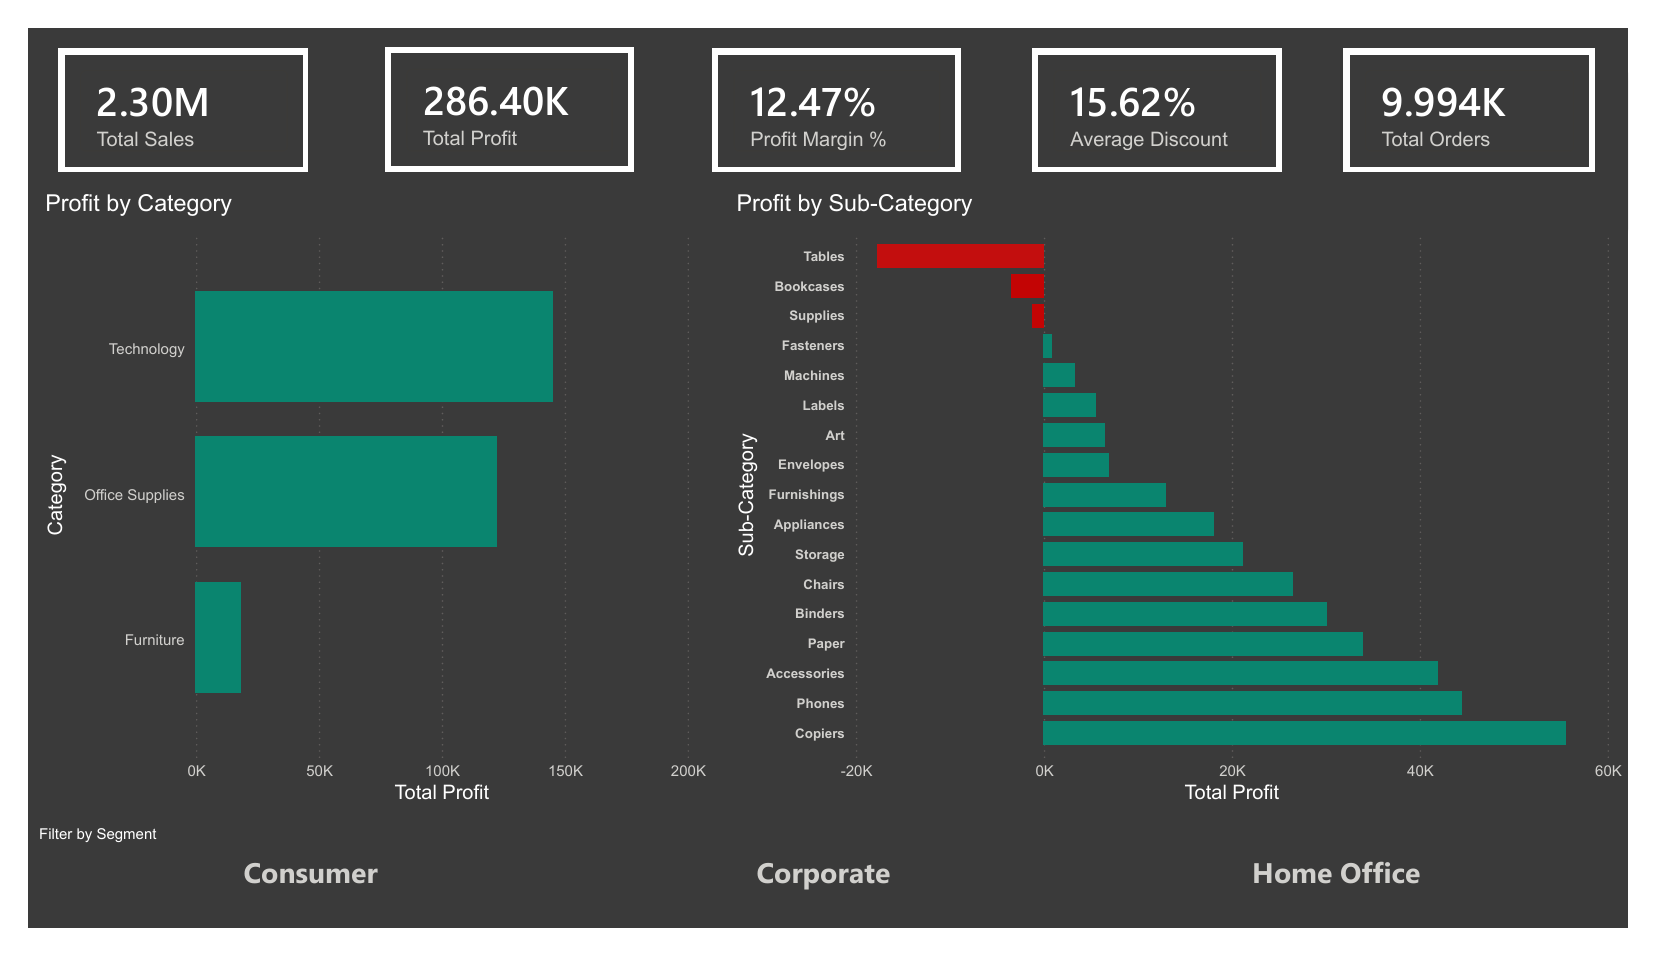

Layout of this report page (visuals, bound fields, positions):
{"tool":"powerbi","page":{"name":" Executive Summary","canvas":[1280,720],"ordinal":0},"visuals":[{"type":"cardVisual","fields":{"Data":["SampleSuperstore.total_sales"]},"box":[24.3,15.7,200,99],"z":0},{"type":"cardVisual","fields":{"Data":["SampleSuperstore.Total_Profit"]},"box":[284.7,15.4,199.1,99.6],"z":1000},{"type":"cardVisual","fields":{"Data":["SampleSuperstore.profit_margin"]},"box":[547.1,15.7,198.6,99],"z":2000},{"type":"cardVisual","fields":{"Data":["SampleSuperstore.total_orders"]},"box":[1052.5,16.5,200.3,99],"z":3000},{"type":"cardVisual","fields":{"Data":["SampleSuperstore.average_discount"]},"box":[802.9,15.7,200,99],"z":4000},{"type":"clusteredBarChart","title":"Profit by Category","fields":{"Category":["SampleSuperstore.Category"],"Y":["SampleSuperstore.Total Profit"]},"box":[8.4,129,538.5,495],"z":5000},{"type":"clusteredBarChart","title":" Profit by Sub-Category","fields":{"Category":["SampleSuperstore.Sub-Category"],"Y":["SampleSuperstore.Total Profit"]},"box":[560.9,129,718,495],"z":6000},{"type":"slicer","title":"Filter By Segment ","fields":{"Values":["SampleSuperstore.Segment"]},"box":[0,636.6,1269.1,57.5],"z":7000}]}

Visuals, with their boxes in screenshot pixels (x1, y1, x2, y2), scaled from the page's 1280x720 canvas onto the 1655x957 screenshot:
cardVisual - SampleSuperstore.total_sales: (31,21,290,152)
cardVisual - SampleSuperstore.Total_Profit: (368,20,626,153)
cardVisual - SampleSuperstore.profit_margin: (707,21,964,152)
cardVisual - SampleSuperstore.total_orders: (1361,22,1620,154)
cardVisual - SampleSuperstore.average_discount: (1038,21,1297,152)
"Profit by Category" clusteredBarChart: (11,171,707,829)
" Profit by Sub-Category" clusteredBarChart: (725,171,1654,829)
"Filter By Segment " slicer: (0,846,1641,923)
